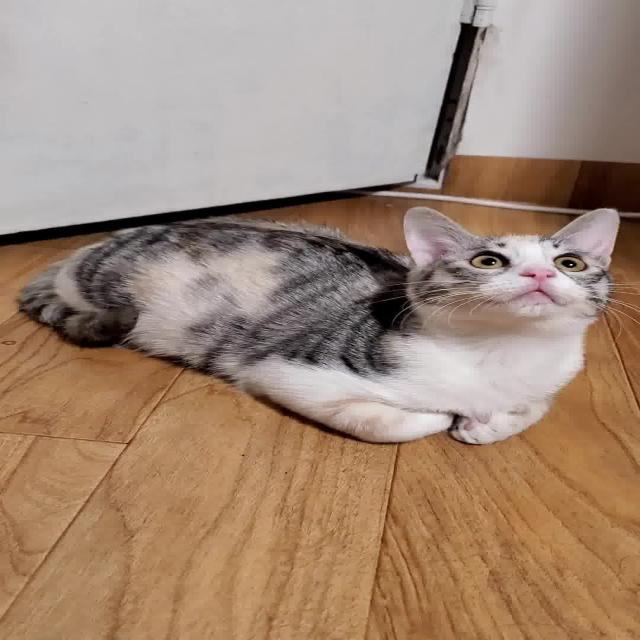cat: (10, 184, 640, 453)
